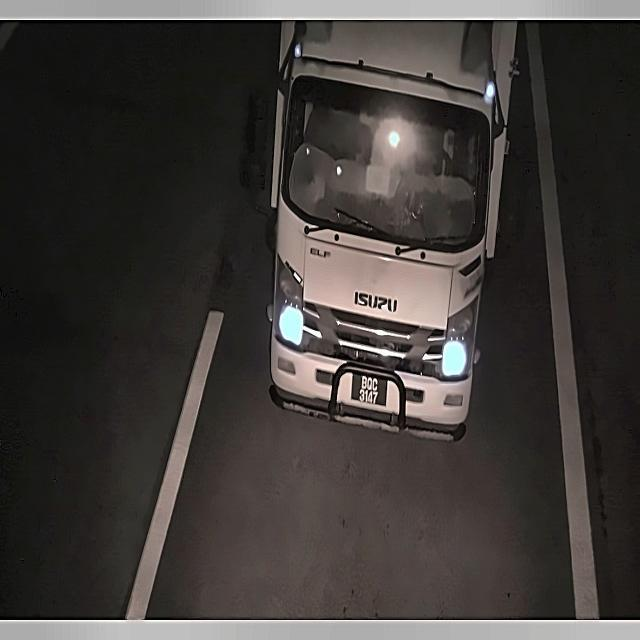car: (342, 364, 392, 414)
